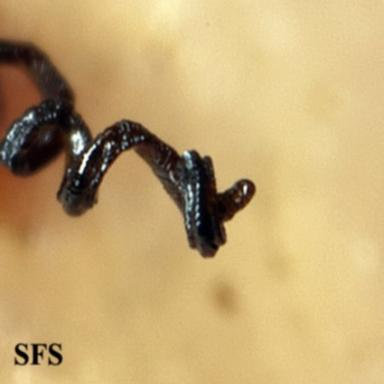Tungiasis: (0, 41, 255, 256)
